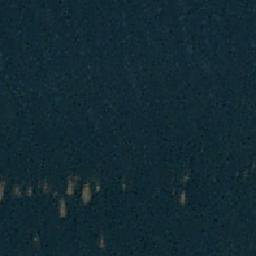debris: (80, 182, 91, 202), (40, 177, 49, 196), (66, 178, 76, 195), (58, 198, 66, 216), (12, 182, 21, 197), (178, 189, 187, 204), (98, 234, 106, 250), (1, 180, 6, 201), (25, 186, 32, 198)
